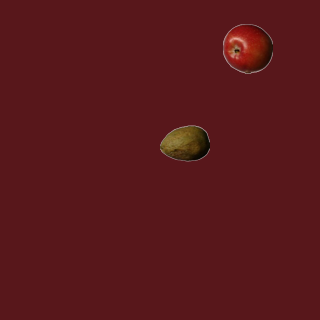Apple Braeburn: (222, 23, 272, 73)
Papaya: (159, 118, 209, 168)
